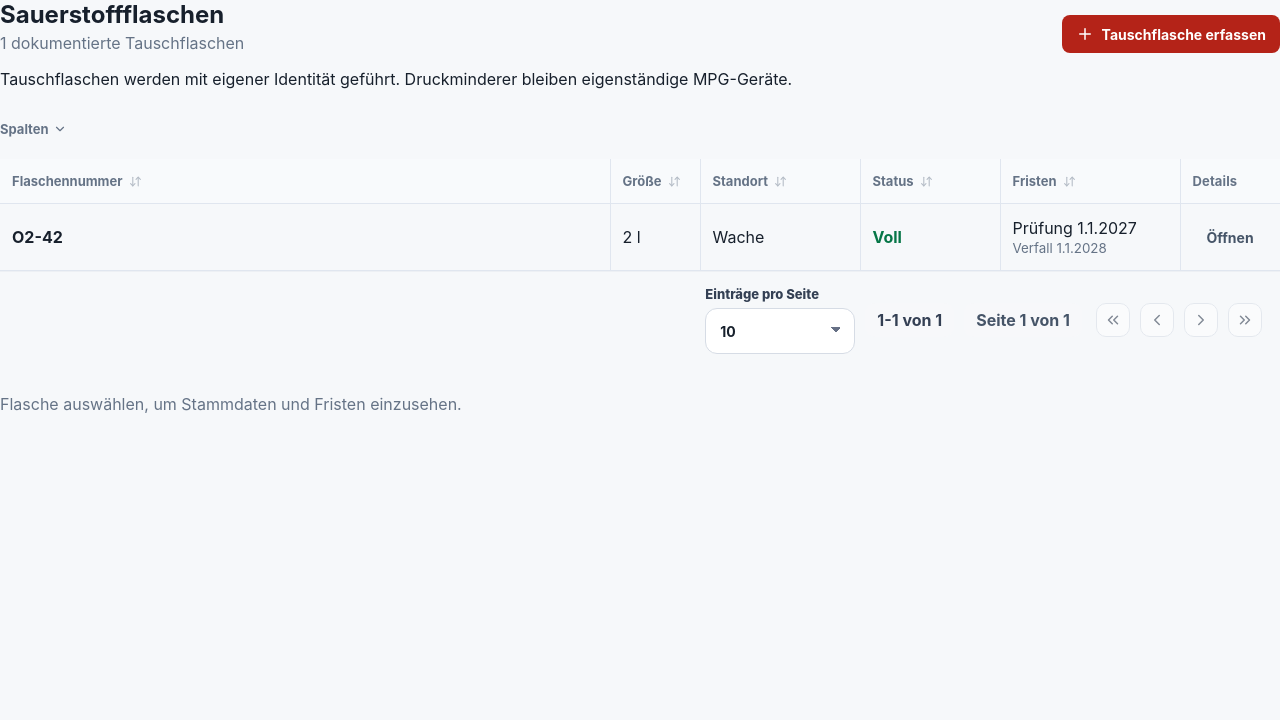
it: keeps cylinder actions outside the table row and preserves the return flow
This screenshot has width=1280, height=720.
Click the button with aria-label "O2-42 öffnen". click: {"x": 1230, "y": 237}
box: [1192, 218, 1268, 256]
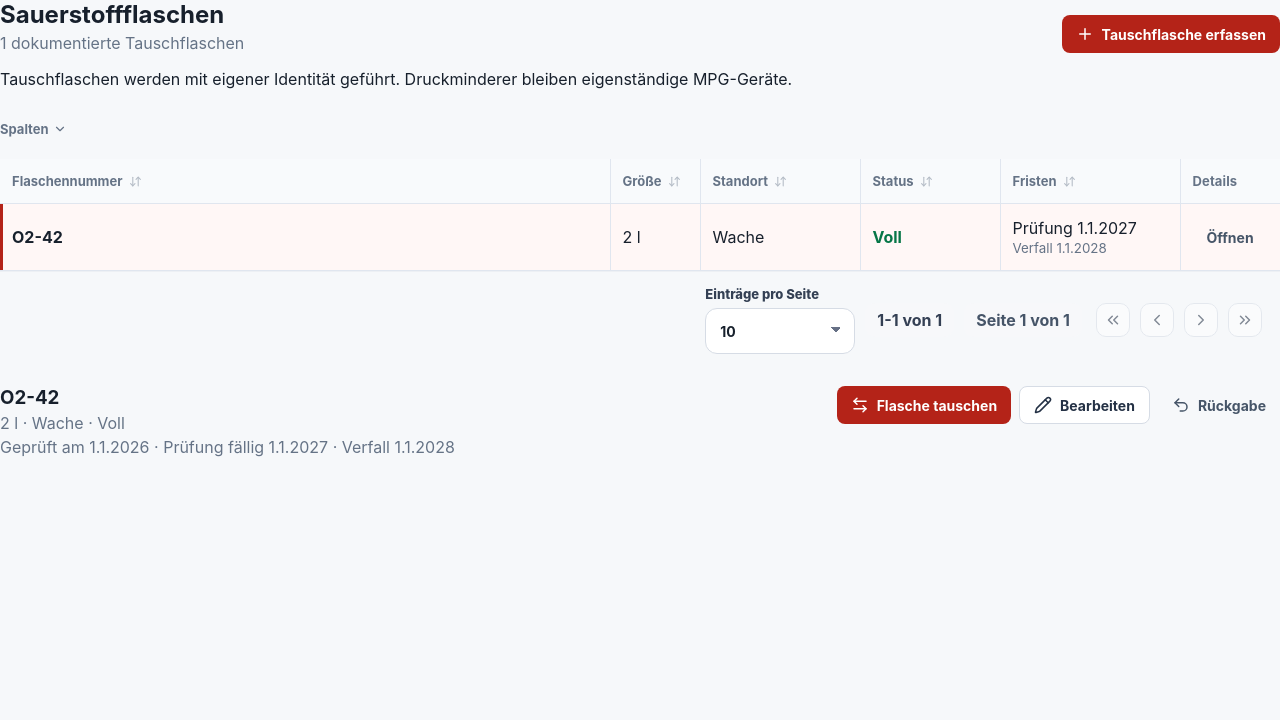
Now the heading "O2-42" is shown, box [0, 386, 59, 409]
Click the button "Rückgabe". click: {"x": 1219, "y": 405}
box: [1158, 386, 1279, 424]
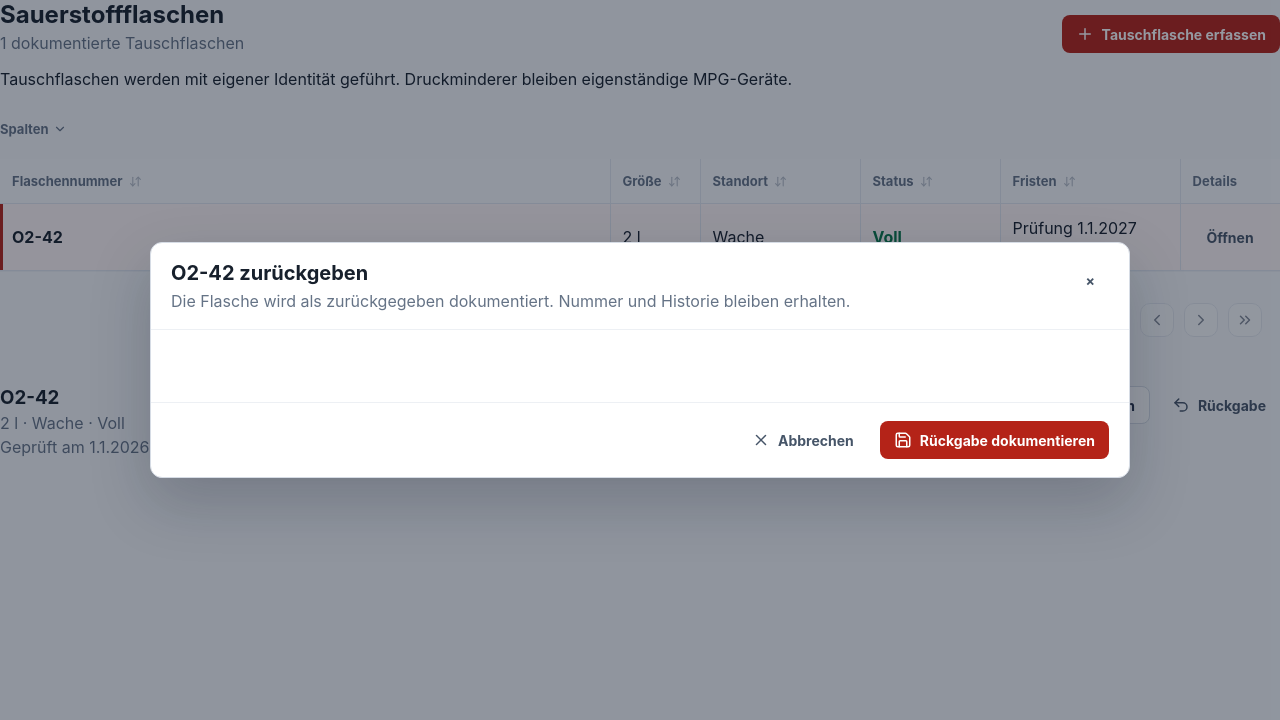
Now the dialog "O2-42 zurückgeben" is shown, box [150, 242, 1130, 478]
